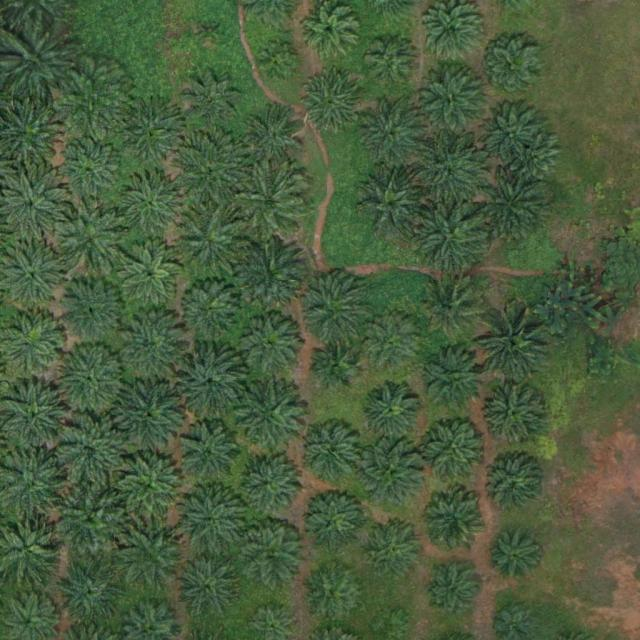Healthy: (57, 204, 128, 275), (55, 275, 126, 346), (480, 311, 550, 382), (58, 65, 128, 136), (3, 27, 73, 98), (55, 137, 125, 208), (114, 95, 184, 166), (117, 167, 187, 238), (120, 309, 190, 380), (176, 137, 246, 208), (174, 205, 244, 276), (175, 342, 245, 413), (234, 167, 304, 238), (237, 238, 307, 309), (235, 310, 305, 381), (299, 276, 369, 347), (414, 138, 485, 208), (421, 347, 491, 418), (419, 414, 489, 485), (355, 438, 425, 509), (178, 487, 248, 558), (116, 454, 187, 524), (57, 485, 127, 556), (54, 555, 124, 626), (419, 69, 489, 139), (177, 67, 247, 137), (55, 347, 125, 417), (56, 417, 126, 487), (115, 378, 185, 448), (236, 383, 306, 453), (357, 170, 427, 240), (417, 203, 487, 273), (478, 177, 548, 247), (117, 523, 187, 593), (119, 241, 182, 304), (297, 422, 360, 485), (482, 383, 545, 446), (365, 519, 428, 582), (304, 562, 367, 625), (239, 453, 302, 516), (177, 554, 240, 617), (424, 279, 486, 342), (361, 106, 423, 169), (300, 71, 362, 134), (179, 277, 242, 339), (179, 423, 241, 486), (241, 108, 303, 171), (359, 382, 422, 444), (302, 488, 364, 551), (240, 523, 302, 586), (361, 312, 423, 374), (484, 454, 546, 516), (422, 491, 484, 553), (364, 37, 419, 92), (483, 108, 538, 163), (505, 133, 560, 188), (487, 531, 542, 586), (425, 564, 480, 619), (488, 41, 542, 96), (312, 340, 359, 388)
Small: (258, 42, 298, 82), (198, 20, 221, 44)
